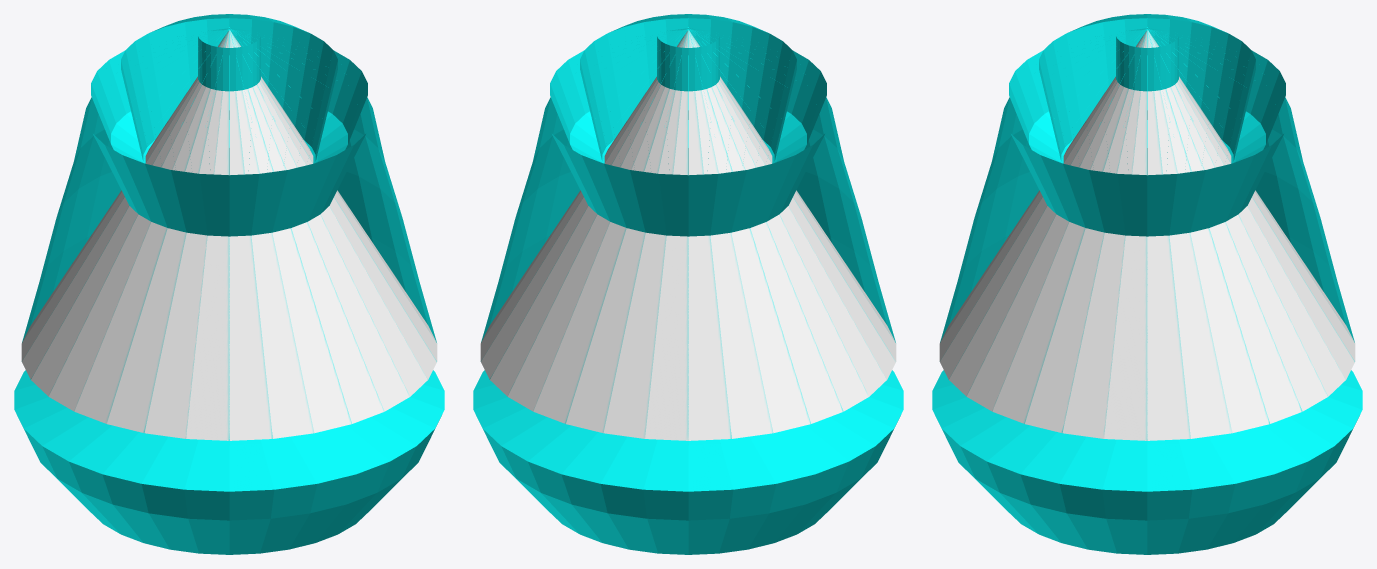
The picture shows the model from 3 angles, left to right: view 1: azimuth 30°, elevation 25°; view 2: azimuth 150°, elevation 25°; view 3: azimuth 270°, elevation 25°; orthographic projection.
Parts seen in each view (by area): view 1: algeomath; view 2: algeomath; view 3: algeomath.
Boxes of the visible parts, <box> form: algeomath: <box>14,14,444,554</box>; algeomath: <box>473,14,903,554</box>; algeomath: <box>932,14,1362,554</box>.
Size of the model in its own units: 0.2356 by 0.3 by 0.2343.
Materials: 1 (1 with a texture image).
